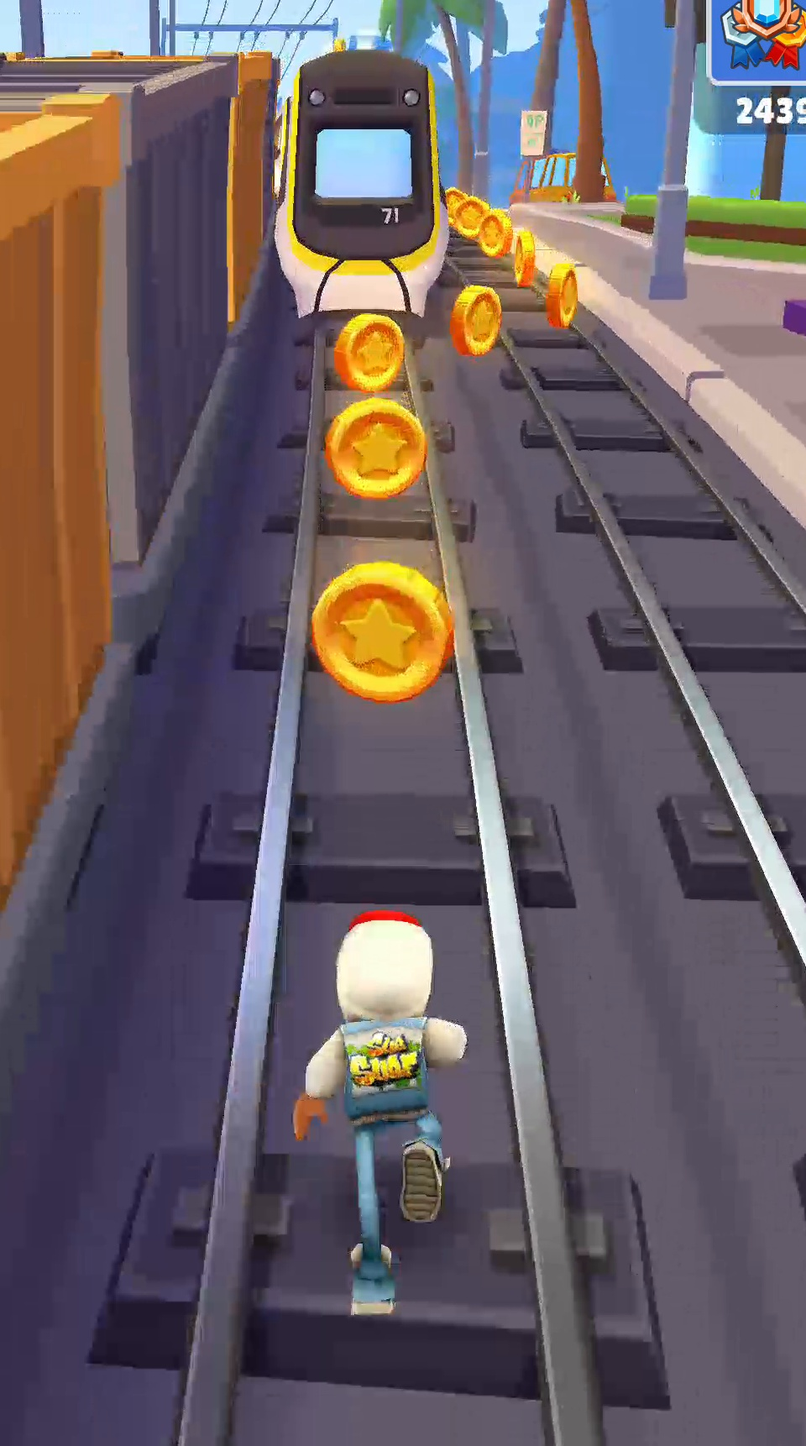train: (0, 52, 274, 925), (275, 50, 448, 317)
